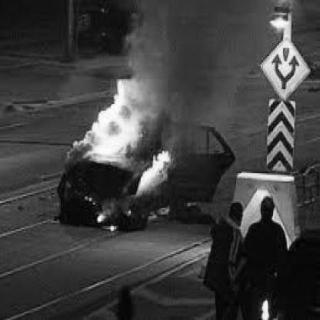Fire: (28, 50, 181, 203)
